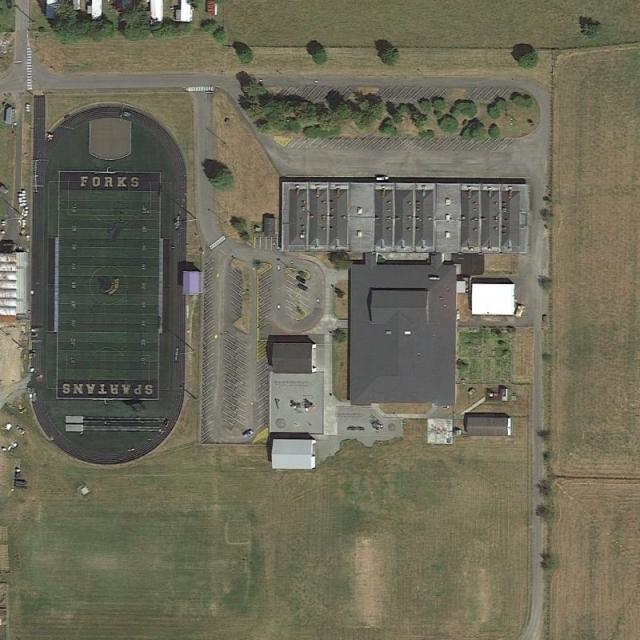vehicle: (242, 430, 254, 438), (376, 175, 389, 182), (298, 283, 308, 292), (296, 275, 306, 284)
